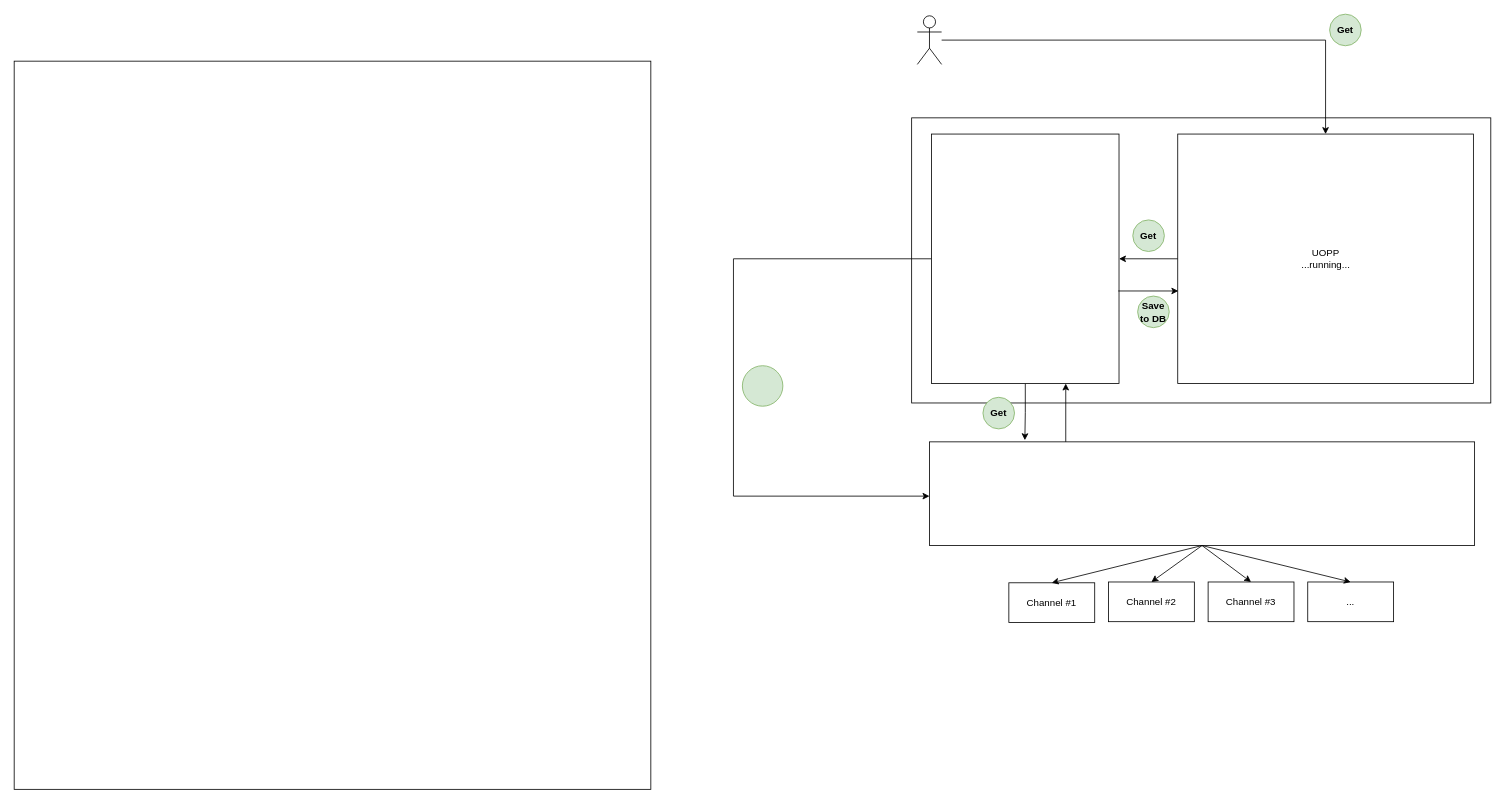
The diagram is 1505 pixels wide and 804 high, and some of its shapes have lost their labels. Here are the shapes that lost their labels. From the top down, the centre of each, then its label:
pixel 929 39: User
pixel 1025 258: Telegram parser ...running...
pixel 762 385: Lanuch Cron
pixel 1202 493: My Telegram channel - channels base
